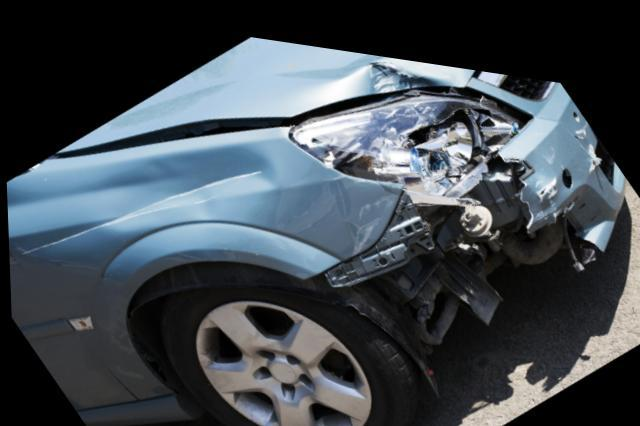dent: (90, 139, 279, 231), (289, 37, 434, 80)
lamp broken: (292, 82, 521, 184)
no part: (316, 143, 592, 346)
scratch: (350, 179, 400, 247)
